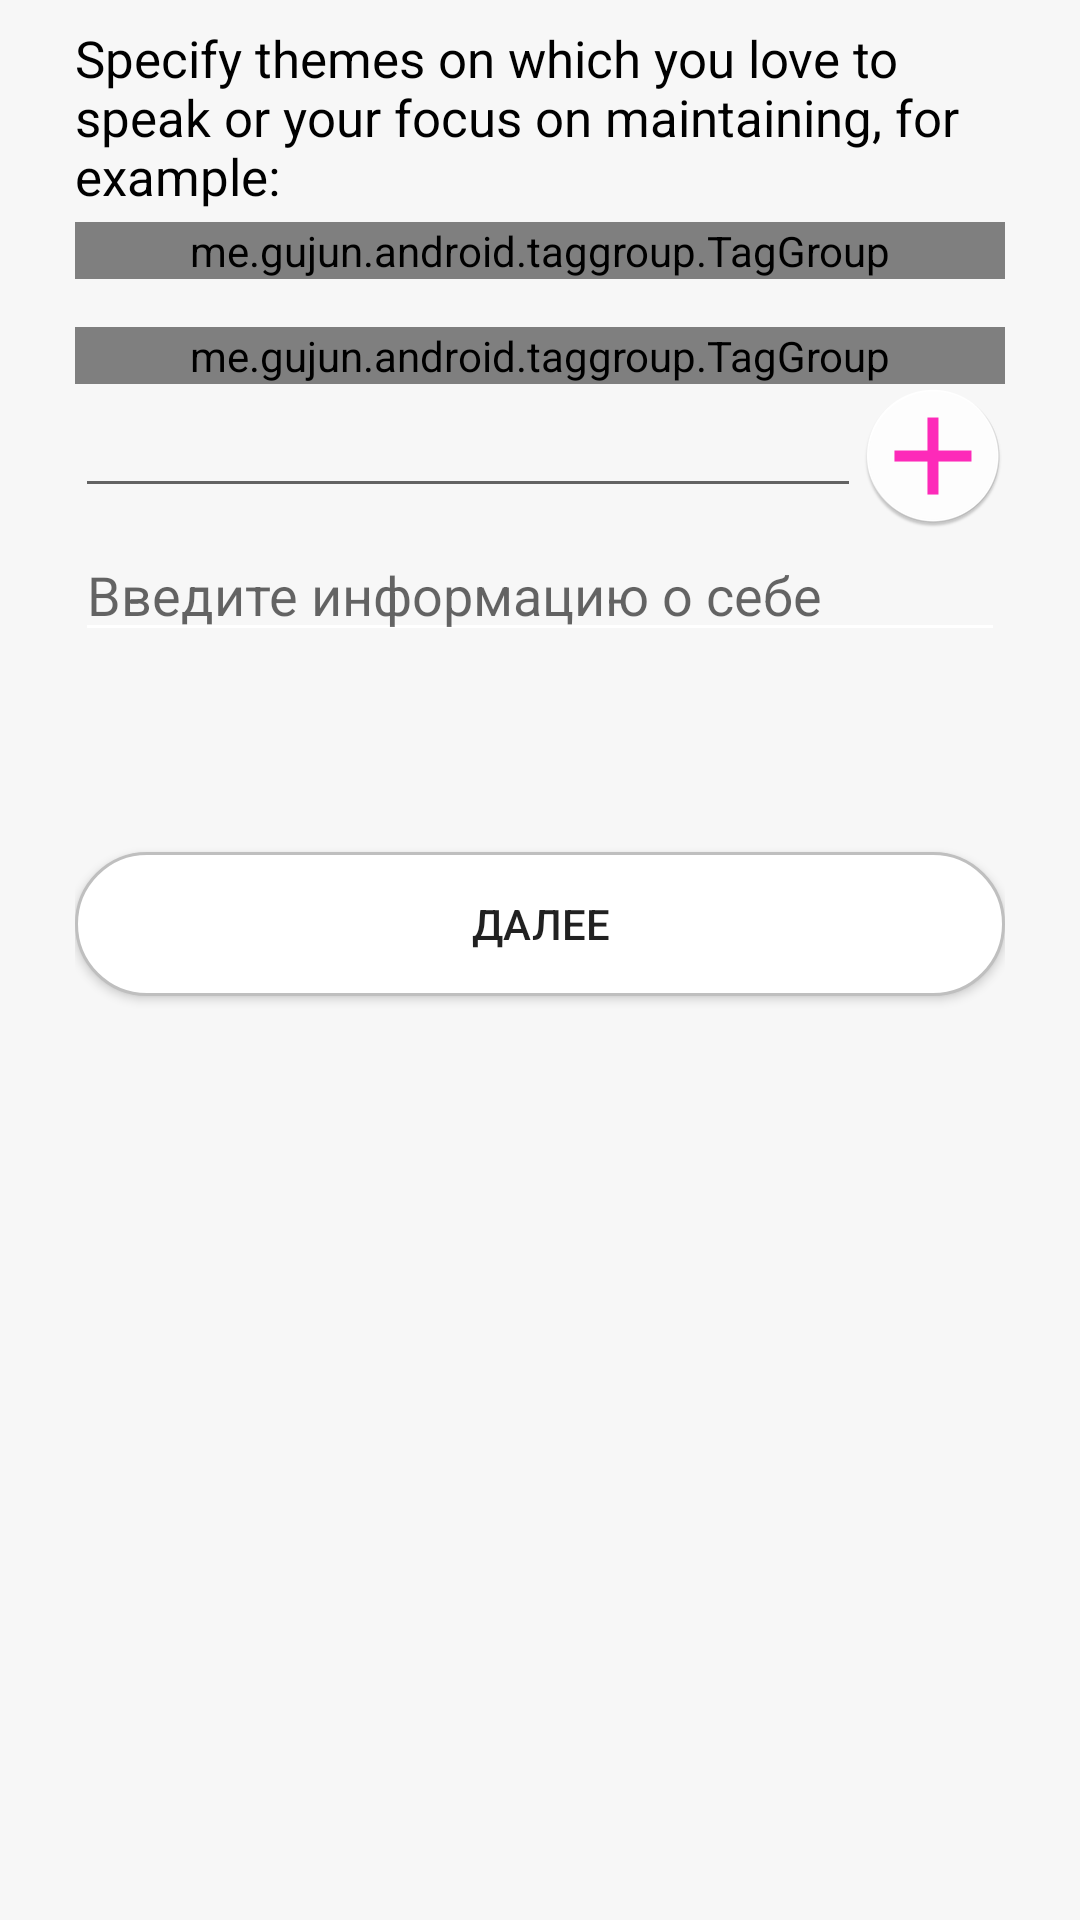

Screen size 1080px×1920px. Icon name, then its box in pixels as (x1, y1, x2, y2):
add: (868, 417, 1000, 525)
